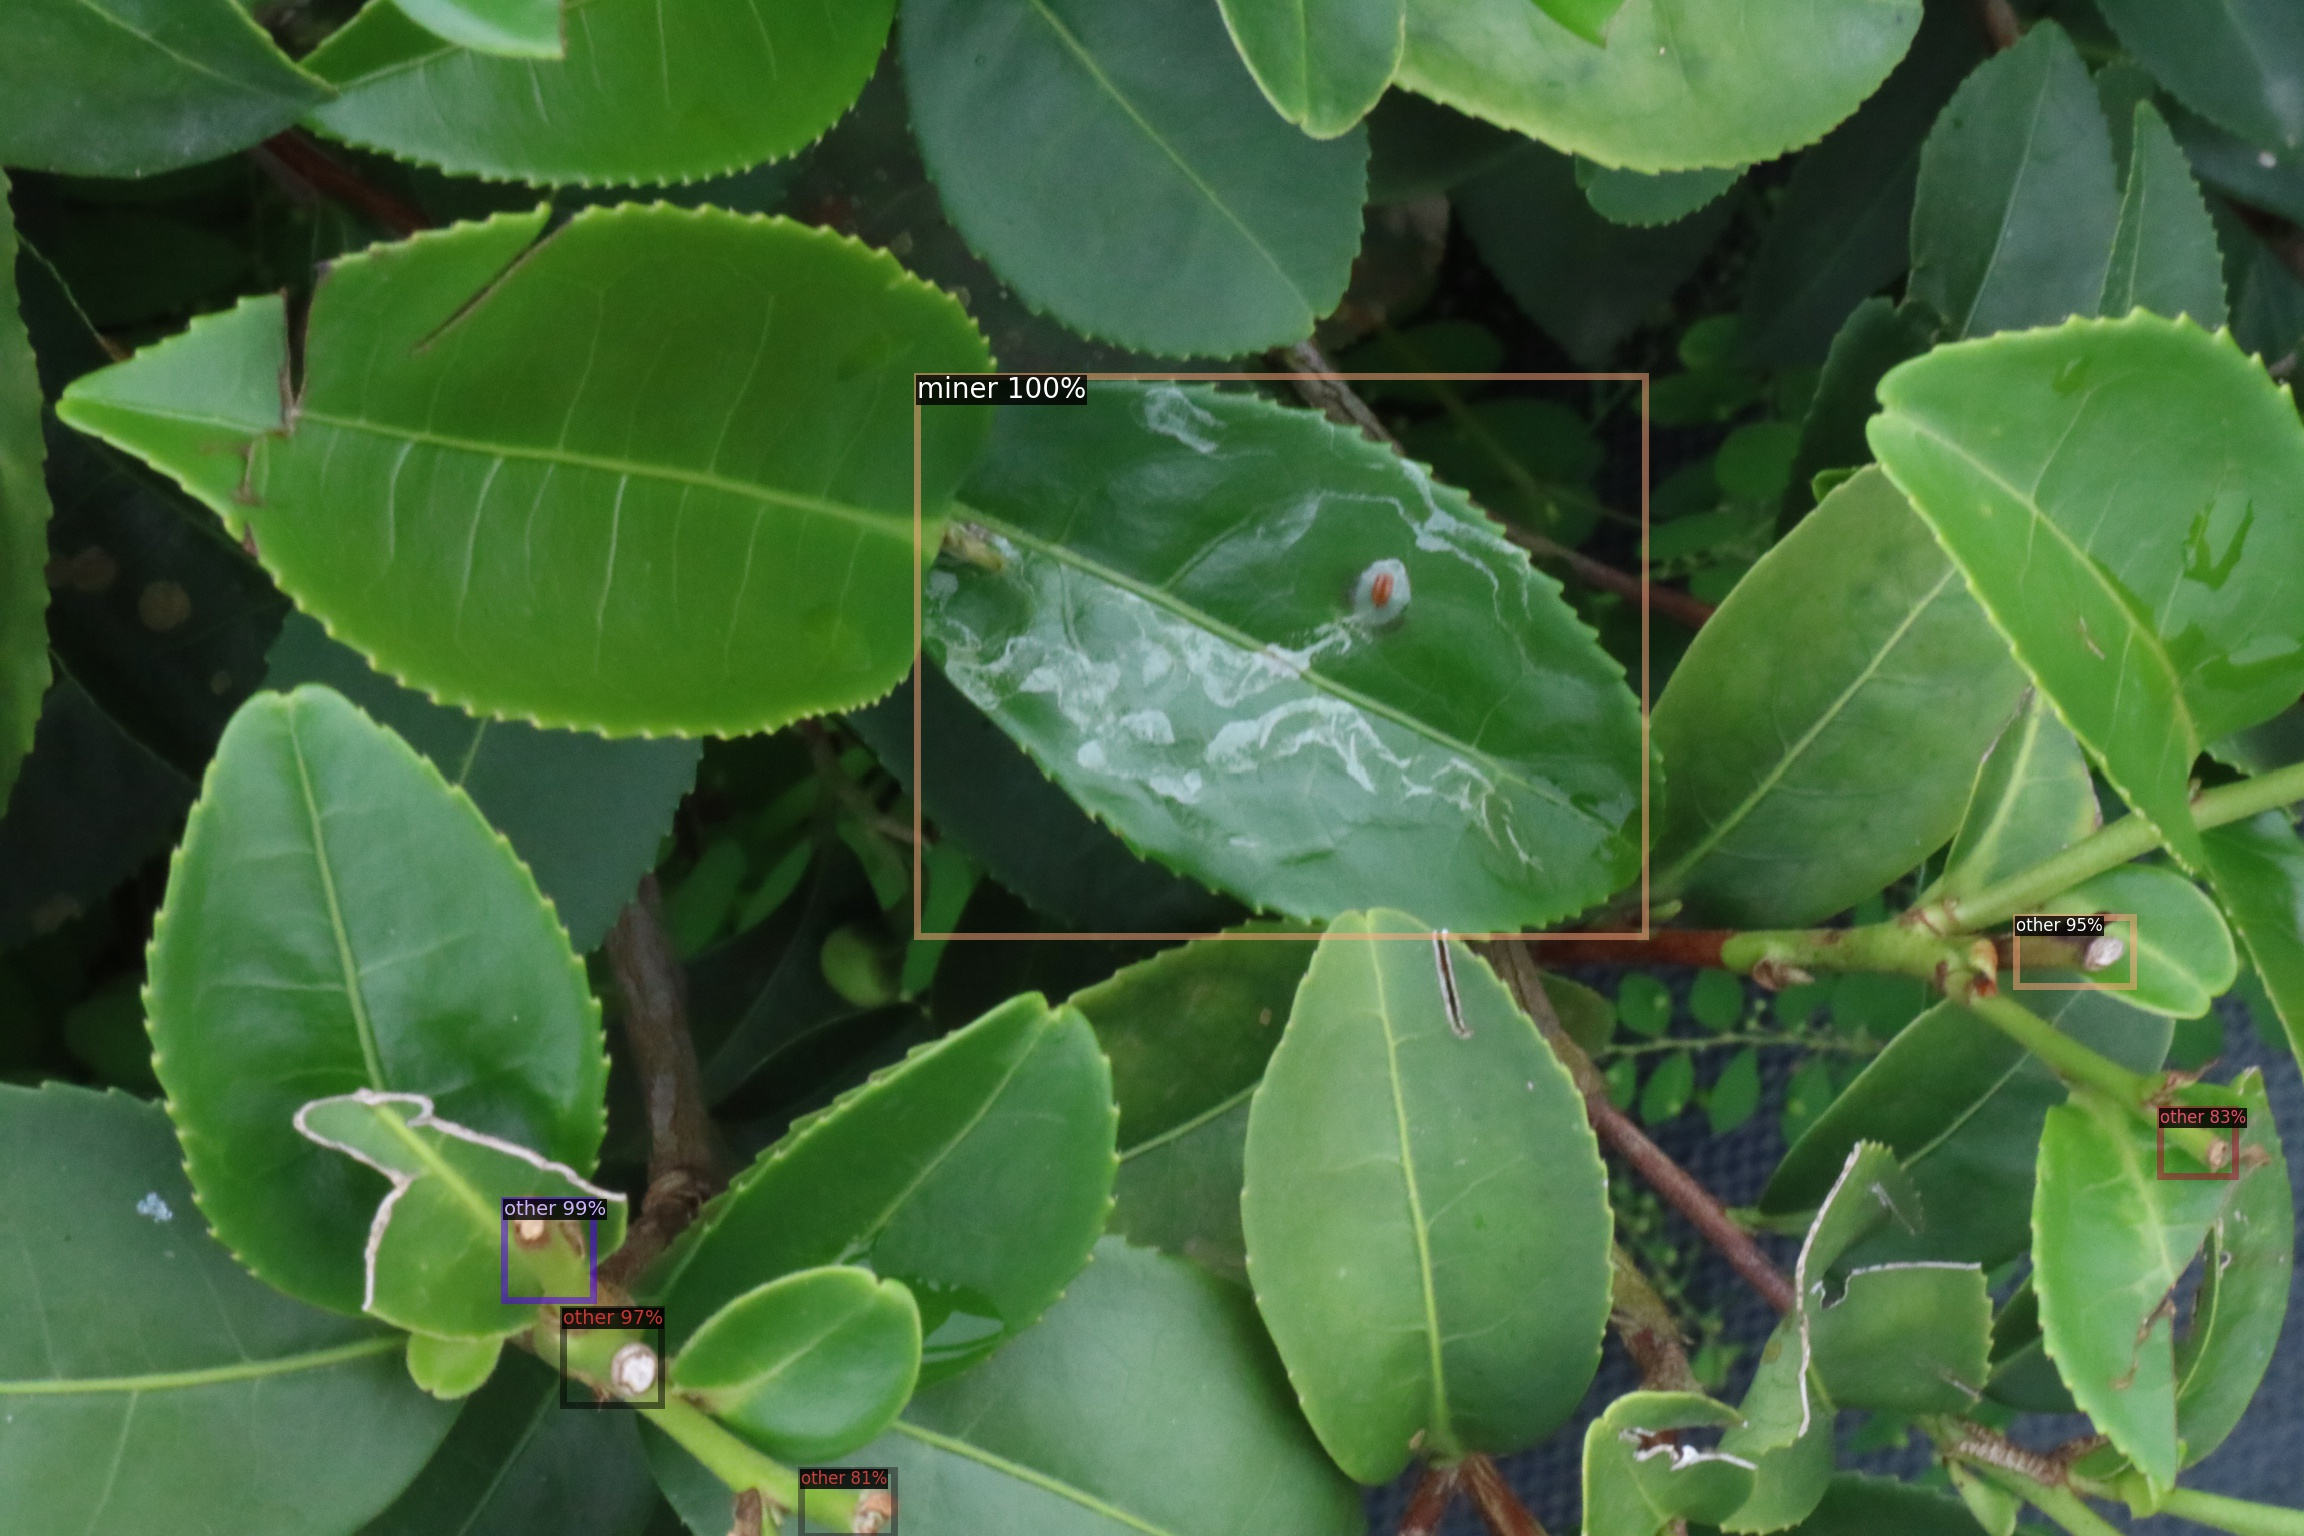miner: (917, 375, 1644, 934)
other: (562, 1310, 662, 1406), (502, 1200, 591, 1299), (2016, 915, 2133, 986), (801, 1471, 893, 1536), (2160, 1107, 2234, 1174)
